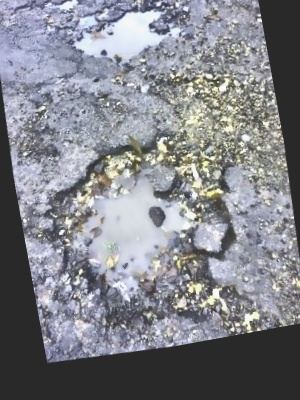pothole: (25, 123, 266, 357), (60, 0, 197, 75)
